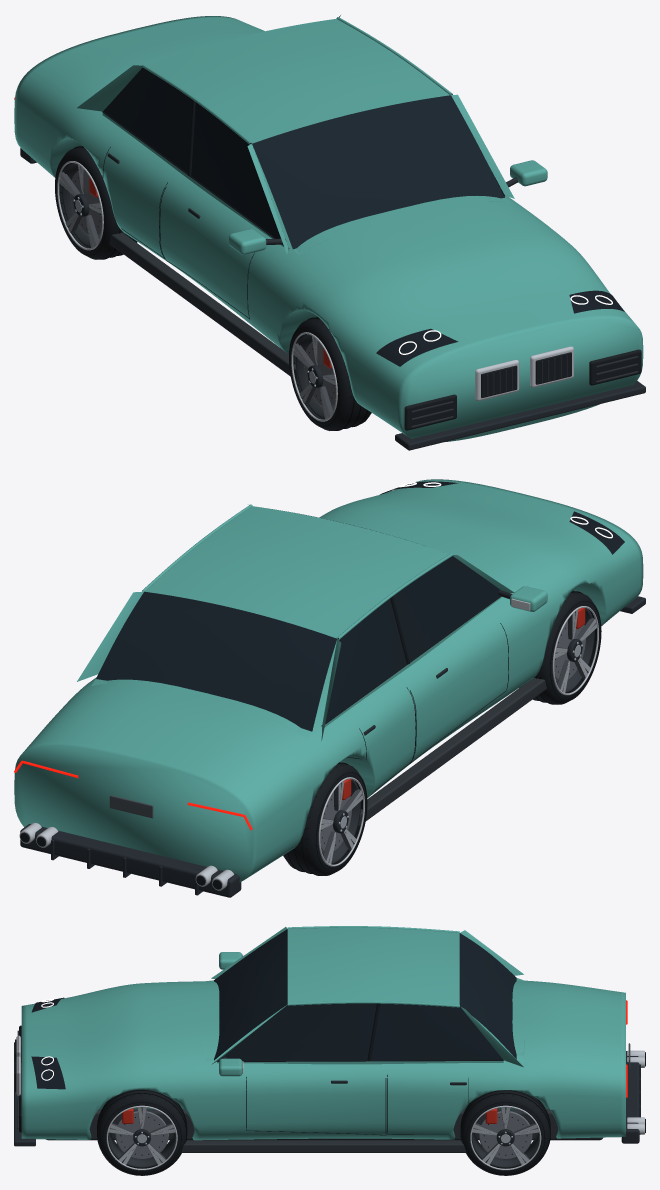
The picture shows the model from 3 angles, top to bottom: view 1: azimuth 30°, elevation 25°; view 2: azimuth 150°, elevation 25°; view 3: azimuth 270°, elevation 25°; orthographic projection. The views are drawn at different scales.
Visible parts, largest first — view 1: Body_SculptedQuadShell, Web_Chassis_Rig_V6_Detail_Glass, Web_Chassis_Rig_m3_Exterior_NewPaint, Web_Chassis_Rig_Graphite metal, Web_Chassis_Rig_Rubber, Web_Chassis_Rig_Finish_CarbonWeave, Web_Wheel_FR_Rubber, Web_Wheel_RR_Rubber, Web_Chassis_Rig_Finish_LampPolymer, Web_Chassis_Rig_Forged alloy, Web_Chassis_Rig_V6 Rubber, Finish_SplitSpokes_FR (+5 smaller); view 2: Body_SculptedQuadShell, Web_Chassis_Rig_V6_Detail_Glass, Web_Chassis_Rig_m3_Exterior_NewPaint, Web_Chassis_Rig_Finish_CarbonWeave, Web_Chassis_Rig_Graphite metal, Web_Wheel_RR_Rubber, Web_Wheel_FR_Rubber, Web_Chassis_Rig_V6 Rubber, Web_Chassis_Rig_Finish_LampPolymer, Finish_SplitSpokes_FR, Finish_SplitSpokes_RR, Web_Chassis_Rig_Forged alloy (+5 smaller); view 3: Body_SculptedQuadShell, Web_Chassis_Rig_V6_Detail_Glass, Web_Chassis_Rig_m3_Exterior_NewPaint, Web_Chassis_Rig_Graphite metal, Web_Wheel_FL_Rubber, Web_Wheel_RL_Rubber, Web_Chassis_Rig_Finish_CarbonWeave, Brake rotor.003, Brake rotor.002, Web_Chassis_Rig_V6 Rubber, Web_Chassis_Rig_Finish_LampPolymer, Finish_SplitSpokes_FL (+8 smaller).
Part boxes in pixels (box(x1,y1,x2,y2)): Body_SculptedQuadShell: box(14, 16, 643, 442); Web_Chassis_Rig_V6_Detail_Glass: box(103, 67, 504, 249); Web_Chassis_Rig_m3_Exterior_NewPaint: box(77, 15, 547, 254); Web_Chassis_Rig_Graphite metal: box(109, 232, 638, 427); Web_Chassis_Rig_Rubber: box(404, 349, 641, 430); Web_Chassis_Rig_Finish_CarbonWeave: box(20, 148, 645, 450); Web_Wheel_FR_Rubber: box(289, 317, 371, 430); Web_Wheel_RR_Rubber: box(55, 147, 137, 259); Web_Chassis_Rig_Finish_LampPolymer: box(376, 290, 624, 366); Web_Chassis_Rig_Forged alloy: box(475, 346, 573, 400); Web_Chassis_Rig_V6 Rubber: box(102, 100, 504, 318); Finish_SplitSpokes_FR: box(293, 336, 335, 419); Body_SculptedQuadShell: box(14, 479, 643, 882); Web_Chassis_Rig_V6_Detail_Glass: box(96, 511, 500, 731); Web_Chassis_Rig_m3_Exterior_NewPaint: box(77, 504, 547, 740); Web_Chassis_Rig_Finish_CarbonWeave: box(20, 596, 645, 897); Web_Chassis_Rig_Graphite metal: box(358, 677, 546, 826); Web_Wheel_RR_Rubber: box(283, 762, 367, 875); Web_Wheel_FR_Rubber: box(519, 591, 601, 704); Web_Chassis_Rig_V6 Rubber: box(321, 596, 508, 790); Web_Chassis_Rig_Finish_LampPolymer: box(380, 481, 624, 554); Finish_SplitSpokes_FR: box(554, 609, 597, 692); Finish_SplitSpokes_RR: box(320, 781, 363, 864); Web_Chassis_Rig_Forged alloy: box(19, 823, 234, 890); Body_SculptedQuadShell: box(21, 980, 625, 1140); Web_Chassis_Rig_V6_Detail_Glass: box(214, 929, 516, 1060); Web_Chassis_Rig_m3_Exterior_NewPaint: box(205, 926, 524, 1076); Web_Chassis_Rig_Graphite metal: box(14, 1030, 602, 1152); Web_Wheel_FL_Rubber: box(97, 1089, 186, 1175); Web_Wheel_RL_Rubber: box(461, 1090, 549, 1175); Web_Chassis_Rig_Finish_CarbonWeave: box(14, 1051, 640, 1146); Brake rotor.003: box(115, 1111, 168, 1159); Brake rotor.002: box(479, 1111, 532, 1159); Web_Chassis_Rig_V6 Rubber: box(217, 1003, 503, 1135); Web_Chassis_Rig_Finish_LampPolymer: box(31, 997, 65, 1089); Finish_SplitSpokes_FL: box(108, 1107, 175, 1164).
Size of the model in its own units: 2.13 by 1.44 by 4.88.
